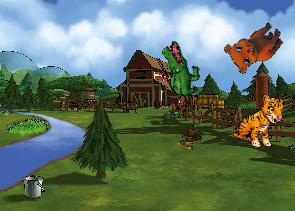bear: (219, 10, 288, 80)
crocodile: (147, 38, 213, 106)
tiger: (231, 89, 287, 152)
